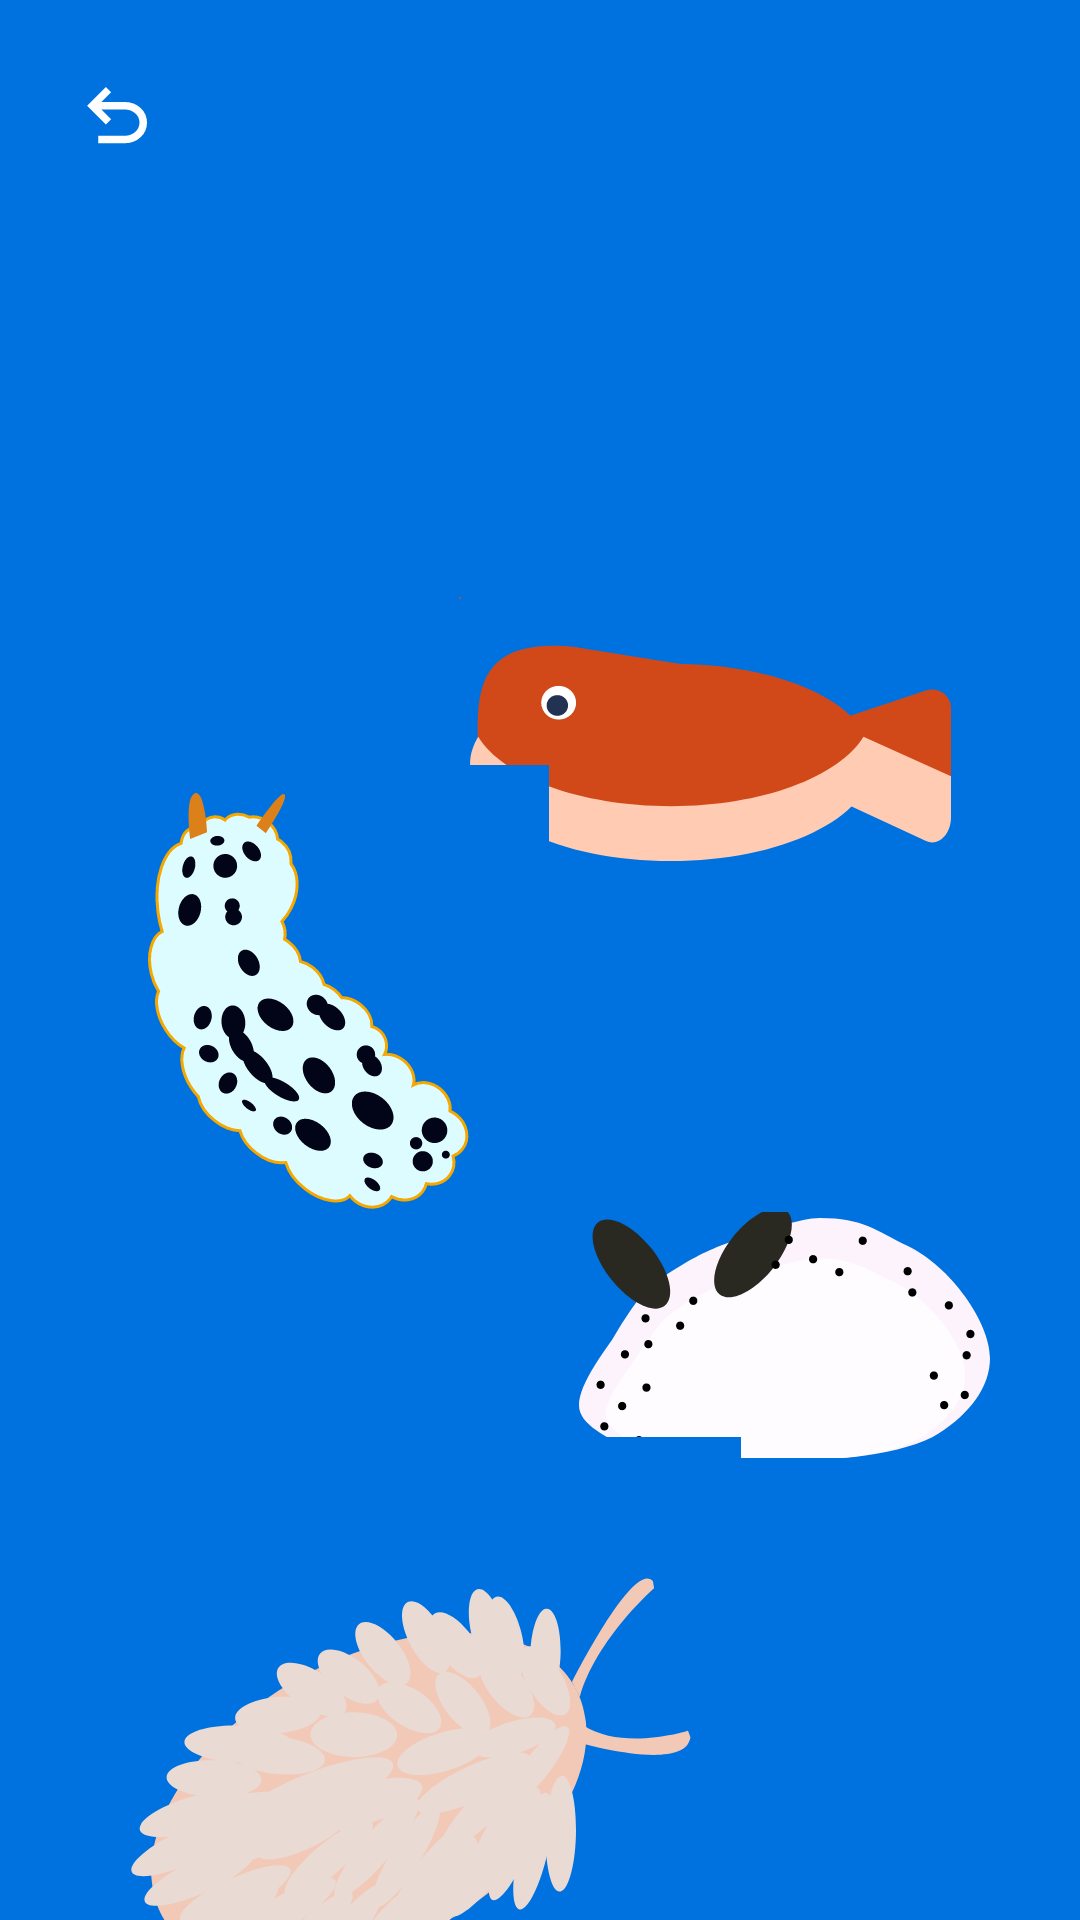

Screen size 1080w x 1920h. Icon name, then its center in pixels as point (x, y):
undo: point (117, 115)
